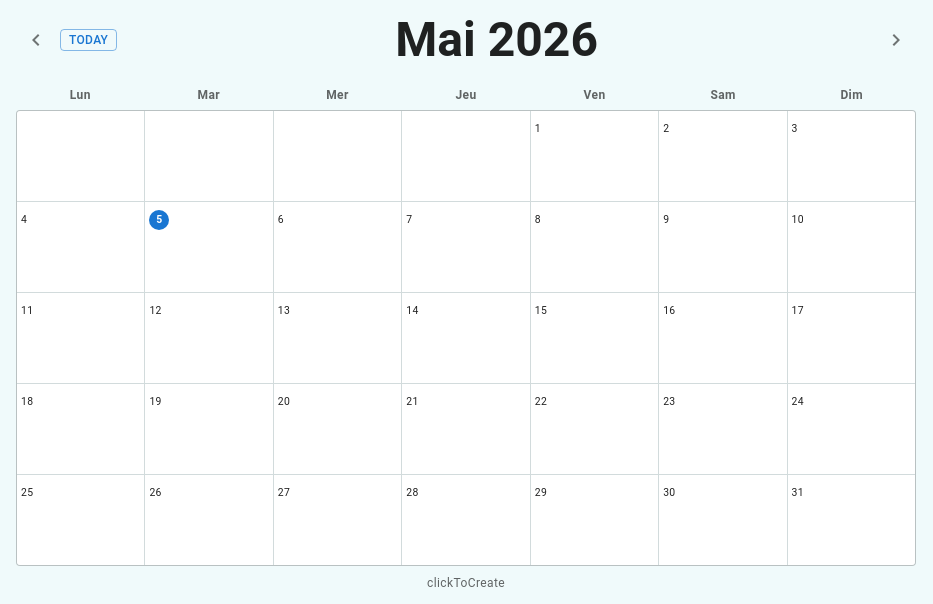
Test: CalendarContent › navigates to previous month
This screenshot has width=933, height=604.
Click the button named "previousMonth": (36, 40) [16,20,56,60]
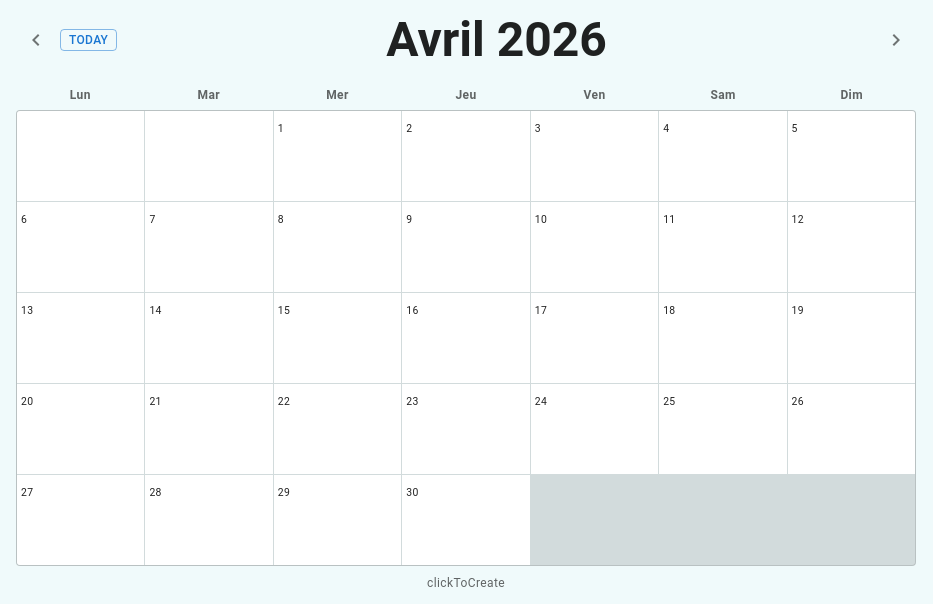
expect the heading "Avril 2026" is shown: met, box [386,12,607,68]
